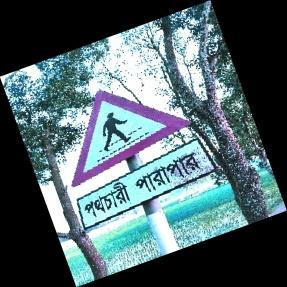Pedestrian-crossing: (73, 83, 220, 226)
